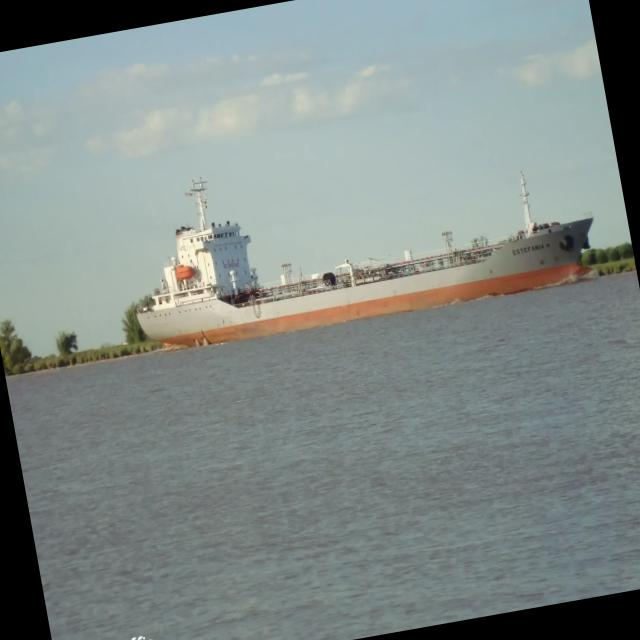Tanker: (136, 177, 592, 346)
